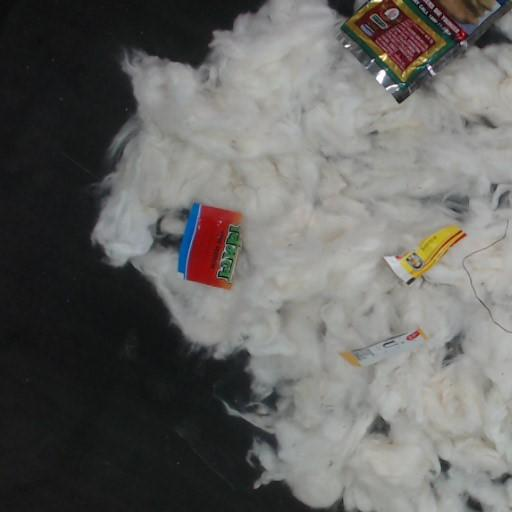cotton: (91, 0, 511, 511)
packet: (338, 0, 511, 102), (178, 204, 240, 288), (385, 225, 465, 284), (342, 331, 423, 364)
thread: (461, 224, 511, 333)
